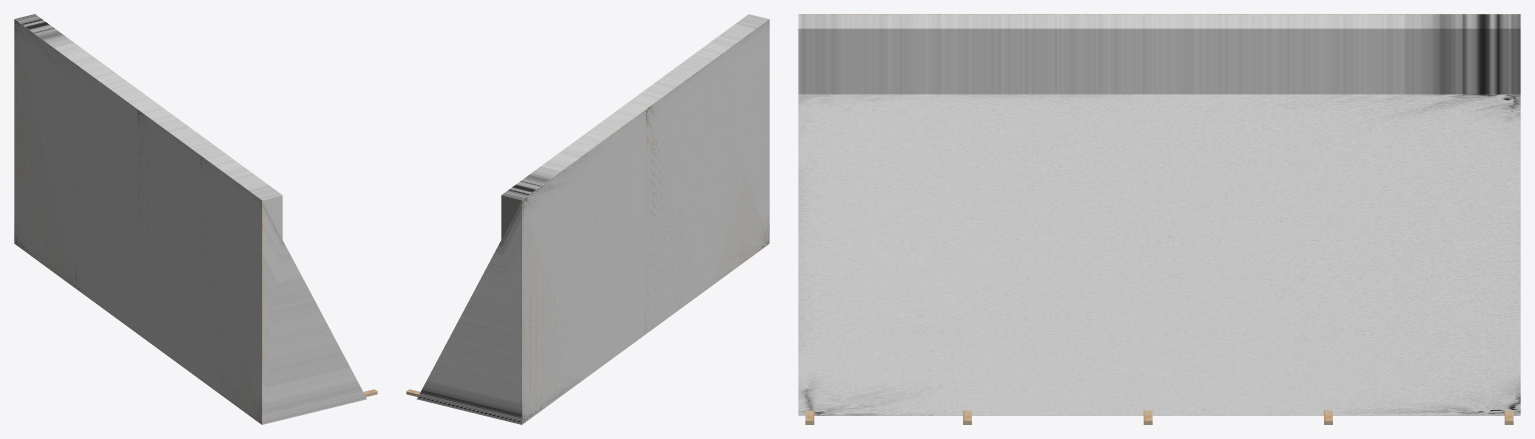
The model's file is greenscreen_8x4.dae.
The picture shows the model from 3 angles, left to right: view 1: azimuth 30°, elevation 25°; view 2: azimuth 150°, elevation 25°; view 3: azimuth 270°, elevation 25°; orthographic projection. The views are drawn at different scales.
Visible parts, largest first — view 1: Colmesh-1, greenscreen_8x4_a200, greenscreen_8x4_a050; view 2: Colmesh-1, greenscreen_8x4_a200, greenscreen_8x4_a050; view 3: Colmesh-1, greenscreen_8x4_a200.
Boxes of the visible parts, x1,y1,x2,y2 form: Colmesh-1: (14, 14, 366, 424); greenscreen_8x4_a200: (14, 19, 377, 424); greenscreen_8x4_a050: (14, 26, 260, 422); Colmesh-1: (417, 14, 769, 424); greenscreen_8x4_a200: (406, 19, 769, 424); greenscreen_8x4_a050: (522, 116, 768, 414); Colmesh-1: (798, 14, 1520, 415); greenscreen_8x4_a200: (798, 14, 1519, 424).
Bounding box in the file's own units: 2.2 × 8 × 4.
Materials: 1 (1 with a texture image).
